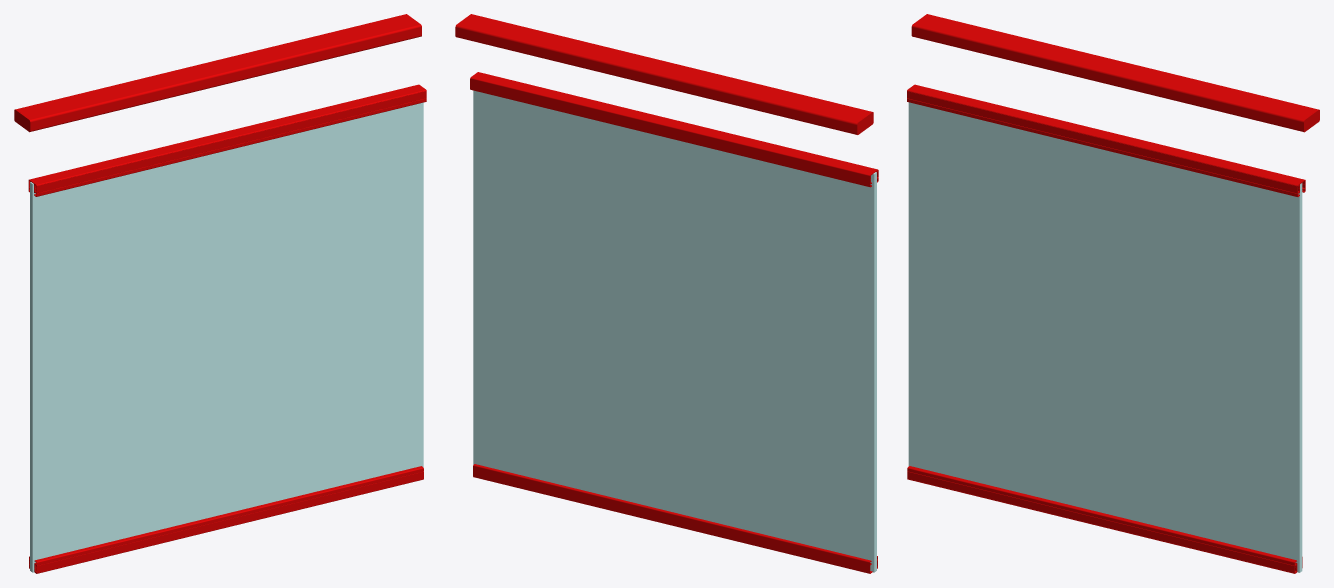
The model's file is middle2.glb.
The picture shows the model from 3 angles, left to right: view 1: azimuth 30°, elevation 25°; view 2: azimuth 150°, elevation 25°; view 3: azimuth 330°, elevation 25°; orthographic projection. The views are drawn at different scales.
Parts seen in each view (by area): view 1: glass, leg; view 2: glass, leg; view 3: glass, leg.
Part boxes in pixels (x1=…): glass: x1=30, y1=102, x2=423, y2=572; leg: x1=14, y1=14, x2=426, y2=573; glass: x1=473, y1=90, x2=876, y2=572; leg: x1=455, y1=14, x2=878, y2=573; glass: x1=908, y1=86, x2=1302, y2=572; leg: x1=907, y1=14, x2=1319, y2=573.
Bounding box in the file's own units: 2.3 × 2.52 × 0.2194.
